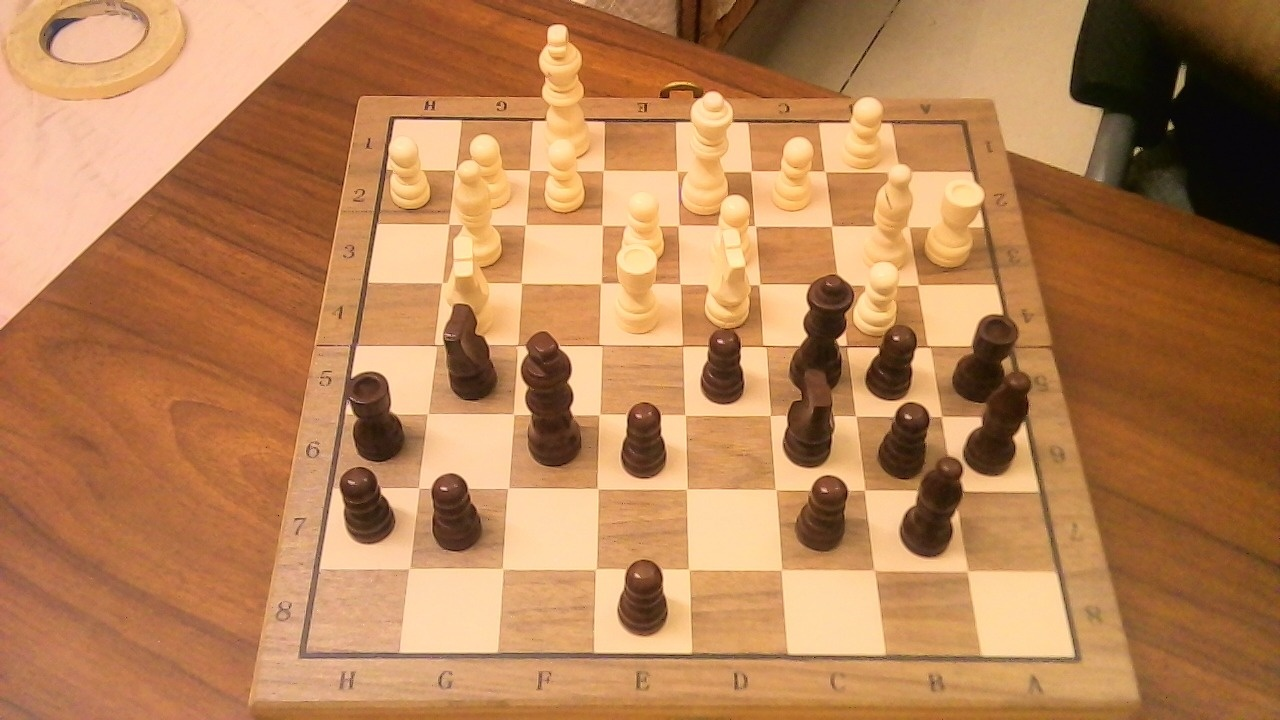B: (448, 148, 513, 271), (863, 153, 922, 274)
K: (533, 14, 597, 163)
N: (692, 238, 759, 328), (455, 232, 499, 315)
P: (610, 181, 671, 278), (764, 127, 823, 216), (458, 126, 518, 213), (535, 129, 591, 217), (833, 87, 891, 171), (382, 127, 437, 212), (856, 252, 907, 340), (707, 186, 758, 268)
Q: (680, 78, 743, 221)
R: (921, 169, 990, 272), (605, 232, 669, 340)
b: (891, 443, 977, 563), (964, 358, 1043, 480)
k: (517, 321, 595, 469)
n: (435, 288, 508, 403), (777, 384, 853, 471)
p: (332, 456, 405, 548), (789, 463, 860, 555), (860, 314, 929, 402), (691, 318, 757, 409), (880, 400, 942, 480), (618, 545, 668, 640), (618, 400, 670, 478), (432, 473, 482, 552)
q: (778, 261, 863, 395)
r: (946, 302, 1028, 404), (342, 359, 415, 463)
